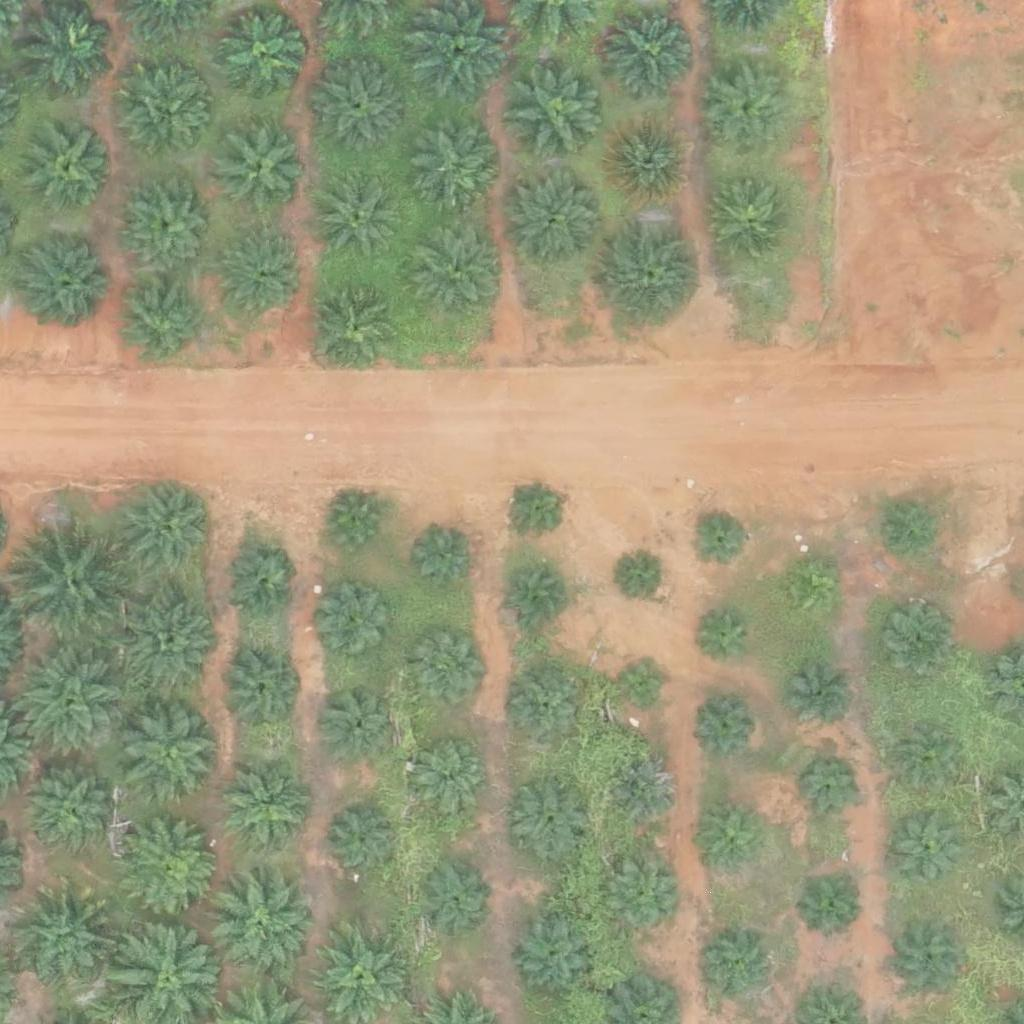Kelapa_Sawit: (11, 517, 136, 643), (7, 640, 132, 766), (408, 3, 508, 104), (308, 58, 408, 159), (405, 216, 505, 317), (507, 64, 607, 165), (505, 168, 605, 269), (604, 222, 704, 323), (19, 887, 119, 988), (19, 230, 119, 330), (121, 176, 221, 276), (116, 480, 216, 580), (120, 596, 220, 696), (120, 703, 220, 803), (122, 820, 222, 920), (213, 876, 313, 976), (507, 774, 595, 862), (605, 5, 693, 93), (218, 13, 306, 101), (218, 126, 306, 214), (220, 232, 308, 320), (316, 172, 404, 260), (313, 282, 401, 370), (605, 116, 693, 204), (710, 179, 798, 267), (222, 766, 310, 854), (511, 914, 599, 1002), (217, 645, 304, 733), (704, 68, 791, 156), (124, 72, 211, 160), (27, 122, 114, 210), (121, 279, 208, 367), (420, 119, 507, 207), (28, 770, 115, 858), (411, 736, 486, 812), (321, 684, 396, 760), (326, 803, 401, 879), (415, 859, 490, 935), (894, 717, 969, 793), (878, 607, 953, 683), (221, 545, 296, 621), (319, 587, 394, 662), (412, 629, 487, 704), (510, 673, 585, 748), (692, 933, 767, 1008), (893, 924, 968, 999), (894, 808, 969, 883), (602, 859, 677, 934), (609, 758, 684, 833), (781, 663, 856, 738), (795, 753, 870, 828), (793, 867, 868, 942), (504, 477, 567, 540), (505, 566, 568, 629), (702, 806, 765, 869), (779, 561, 842, 624), (871, 499, 934, 562), (324, 493, 386, 556), (414, 526, 476, 589), (689, 508, 751, 571), (693, 608, 755, 671), (693, 695, 755, 758), (619, 552, 669, 603), (618, 658, 668, 709)
